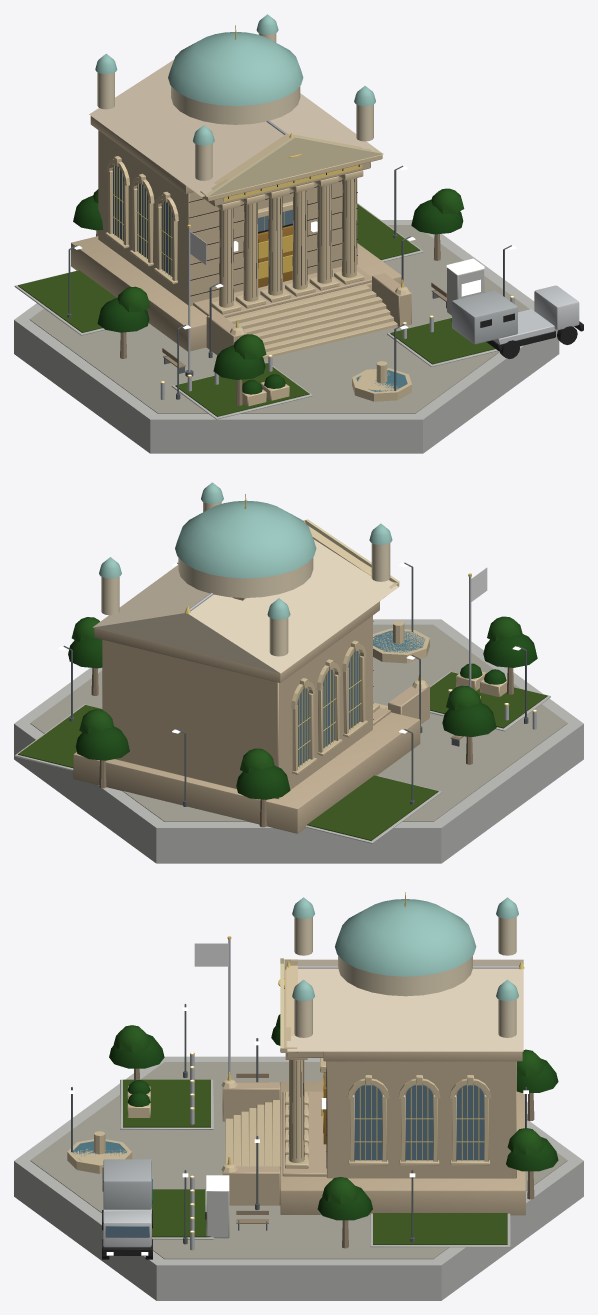
File: bank_arab.glb
The picture shows the model from 3 angles, top to bottom: view 1: azimuth 30°, elevation 25°; view 2: azimuth 150°, elevation 25°; view 3: azimuth 270°, elevation 25°; orthographic projection. The views are drawn at different scales.
Parts seen in each view (by area): view 1: stone, wall_concrete, pavers, plaster, turf, copper, leaf, paint, dark, gold, glass, steel_dark (+3 smaller); view 2: stone, wall_concrete, plaster, pavers, copper, leaf, turf, glass, gold, steel_dark, wood, metal; view 3: stone, wall_concrete, pavers, plaster, copper, turf, leaf, glass, paint, gold, metal, steel_dark (+4 smaller).
Part boxes in pixels (x1,y1,x2,y2): stone: [71, 116, 411, 406]; wall_concrete: [14, 203, 559, 453]; pavers: [29, 225, 529, 413]; plaster: [89, 33, 381, 196]; turf: [18, 204, 495, 416]; copper: [95, 14, 375, 145]; leaf: [73, 188, 464, 394]; paint: [451, 285, 579, 344]; dark: [189, 165, 583, 358]; gold: [111, 25, 514, 383]; glass: [113, 166, 407, 391]; steel_dark: [67, 165, 511, 399]; stone: [73, 519, 507, 833]; wall_concrete: [14, 619, 583, 863]; plaster: [92, 502, 398, 673]; pavers: [30, 624, 567, 821]; copper: [99, 482, 392, 619]; leaf: [68, 616, 537, 799]; turf: [18, 672, 547, 840]; glass: [297, 630, 424, 766]; gold: [184, 494, 537, 767]; steel_dark: [63, 562, 528, 806]; wood: [91, 667, 513, 827]; metal: [187, 577, 536, 729]; stone: [67, 958, 525, 1215]; wall_concrete: [14, 1056, 583, 1300]; pavers: [30, 1062, 567, 1259]; plaster: [287, 917, 523, 1051]; copper: [292, 897, 518, 1000]; turf: [123, 1079, 507, 1244]; leaf: [109, 1014, 558, 1220]; glass: [72, 1072, 484, 1237]; paint: [103, 1159, 152, 1247]; gold: [190, 892, 524, 1233]; metal: [190, 939, 519, 1250]; steel_dark: [71, 1004, 526, 1244].
Bounding box in the file's own units: 21.3 × 14.5 × 24.6.
